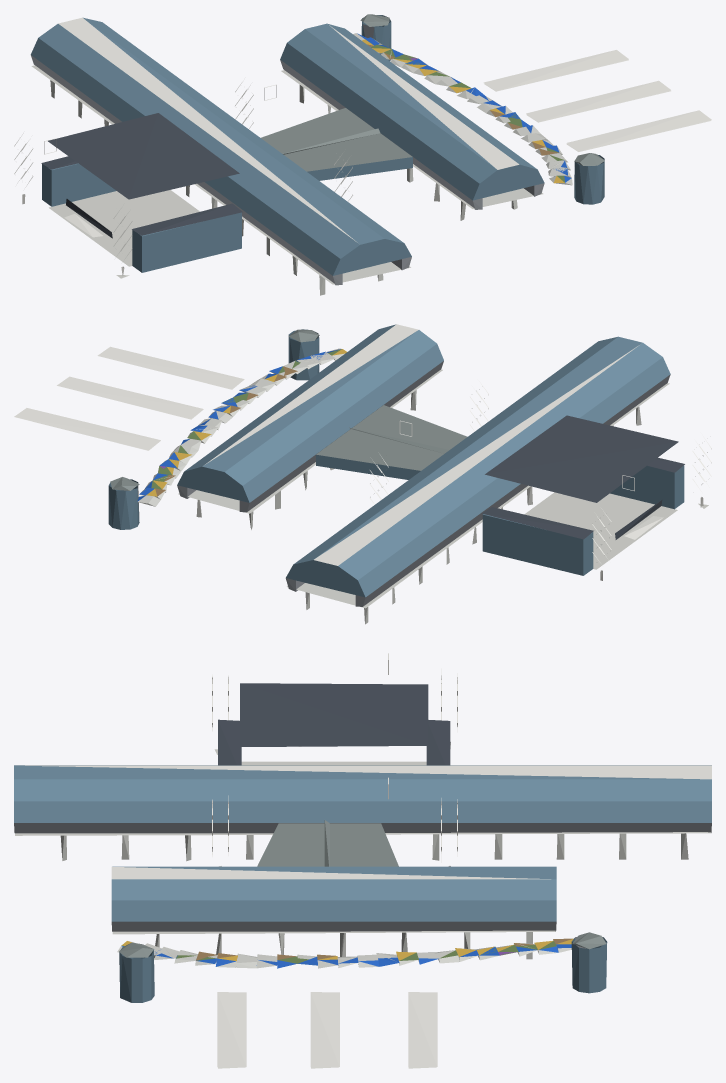
File: sloterdijk-station.lod2.glb
3 views of the same model, one above another, from view 1: azimuth 30°, elevation 25°; view 2: azimuth 150°, elevation 25°; view 3: azimuth 270°, elevation 25° (orthographic). The views are drawn at different scales.
Parts seen in each view (by area): view 1: lod2; view 2: lod2; view 3: lod2.
Boxes of the visible parts, bbox=[...] form: lod2: bbox=[14, 14, 711, 295]; lod2: bbox=[14, 324, 711, 624]; lod2: bbox=[14, 653, 711, 1068].
Size of the model in its own units: 178 by 24 by 157.
